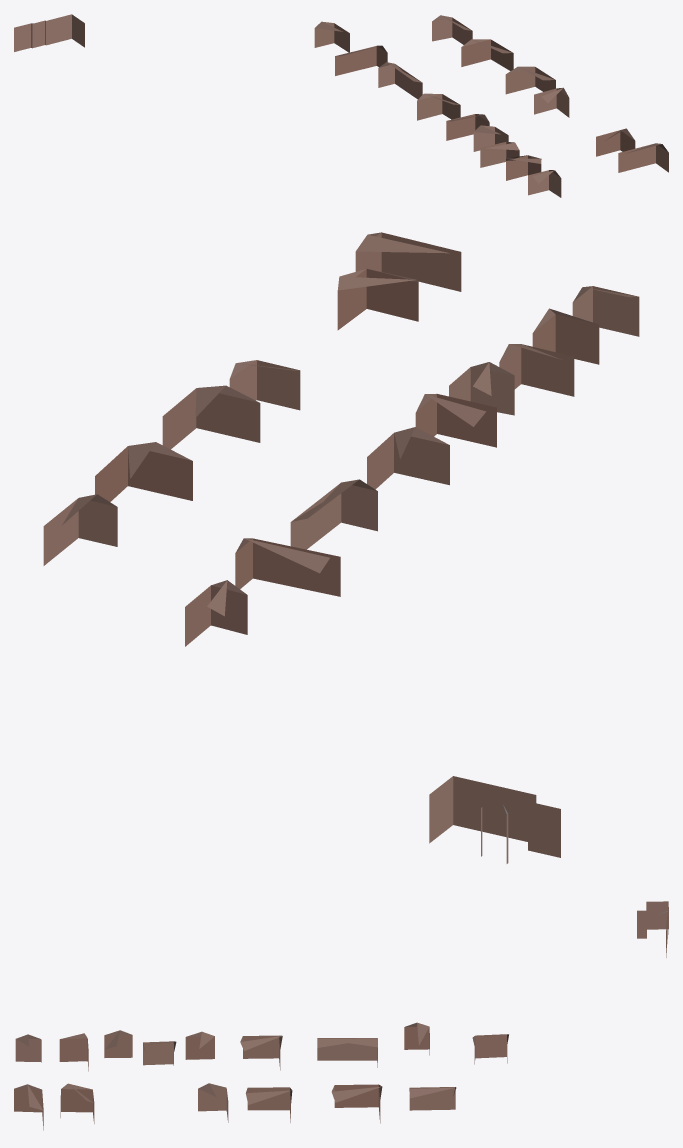
Rendered from c_1639_17837_buildings_residential.glb.
The picture shows the model from 3 angles, top to bottom: view 1: azimuth 30°, elevation 25°; view 2: azimuth 150°, elevation 25°; view 3: azimuth 270°, elevation 25°; orthographic projection. The views are drawn at different scales.
Parts seen in each view (by area): view 1: geometry_0; view 2: geometry_0; view 3: geometry_0.
Boxes of the visible parts, x1,y1,x2,y2 form: geometry_0: [14, 14, 668, 197]; geometry_0: [43, 232, 639, 863]; geometry_0: [14, 901, 668, 1130].
Size of the model in its own units: 173 by 11.08 by 234.
